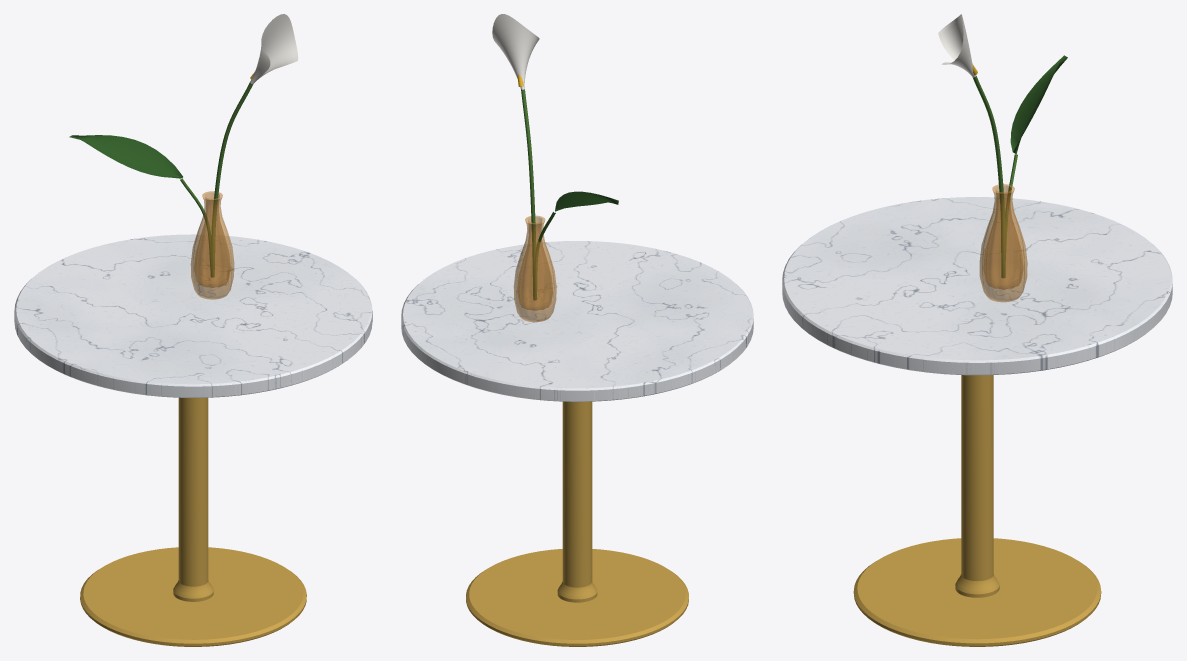
File: Office_Lobby_Side_Table.glb
3 renders of one model, left to right at view 1: azimuth 30°, elevation 25°; view 2: azimuth 150°, elevation 25°; view 3: azimuth 270°, elevation 25°, orthographic. The views are drawn at different scales.
Parts seen in each view (by area): view 1: Marble_Top_Carrara, Base_Plate_Brass, Pedestal_Stem_Brass, Bud_Vase_Amber_Fluted, Calla_Leaf_Blade, Calla_Spathe, Calla_Stem; view 2: Marble_Top_Carrara, Base_Plate_Brass, Pedestal_Stem_Brass, Bud_Vase_Amber_Fluted, Calla_Spathe, Calla_Stem, Calla_Leaf_Blade; view 3: Marble_Top_Carrara, Base_Plate_Brass, Pedestal_Stem_Brass, Bud_Vase_Amber_Fluted, Calla_Leaf_Blade, Calla_Spathe, Calla_Stem.
Boxes of the visible parts, bbox=[...] form: Marble_Top_Carrara: bbox=[14, 234, 372, 397]; Base_Plate_Brass: bbox=[80, 547, 306, 646]; Pedestal_Stem_Brass: bbox=[173, 397, 213, 601]; Bud_Vase_Amber_Fluted: bbox=[190, 191, 234, 299]; Calla_Leaf_Blade: bbox=[69, 135, 182, 178]; Calla_Spathe: bbox=[250, 14, 298, 84]; Calla_Stem: bbox=[210, 82, 252, 277]; Marble_Top_Carrara: bbox=[401, 241, 753, 401]; Base_Plate_Brass: bbox=[466, 549, 688, 646]; Pedestal_Stem_Brass: bbox=[557, 401, 597, 602]; Bud_Vase_Amber_Fluted: bbox=[513, 215, 556, 322]; Calla_Spathe: bbox=[492, 14, 539, 89]; Calla_Stem: bbox=[521, 89, 537, 300]; Calla_Leaf_Blade: bbox=[555, 191, 618, 211]; Marble_Top_Carrara: bbox=[782, 197, 1172, 375]; Base_Plate_Brass: bbox=[853, 538, 1101, 646]; Pedestal_Stem_Brass: bbox=[955, 375, 999, 597]; Bud_Vase_Amber_Fluted: bbox=[979, 184, 1027, 302]; Calla_Leaf_Blade: bbox=[1010, 55, 1067, 154]; Calla_Spathe: bbox=[938, 14, 976, 77]; Calla_Stem: bbox=[972, 76, 1005, 278].
Size of the model in its own units: 0.6 by 1.06 by 0.6.
8 materials, 1 textured.
